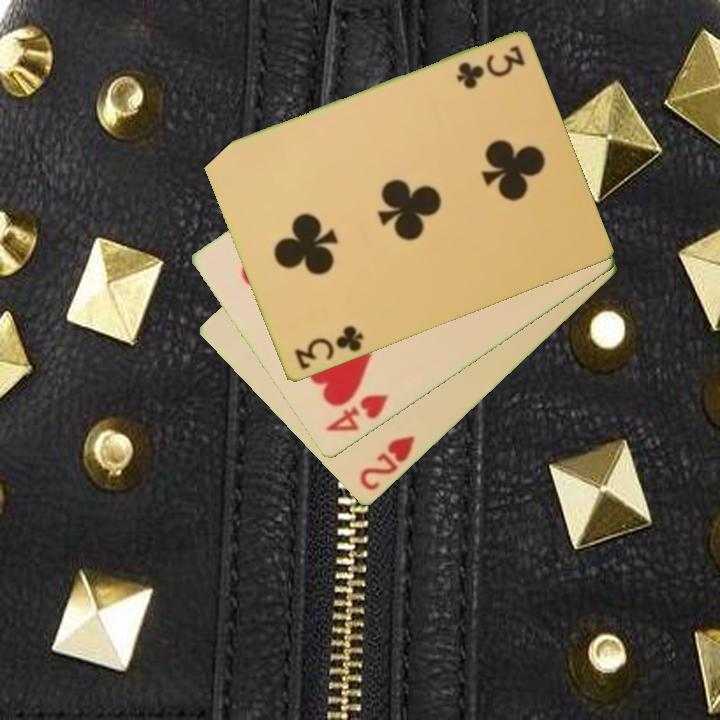2h: (356, 432, 418, 494)
3c: (290, 322, 367, 373), (452, 42, 528, 91)
4h: (321, 391, 392, 436)
